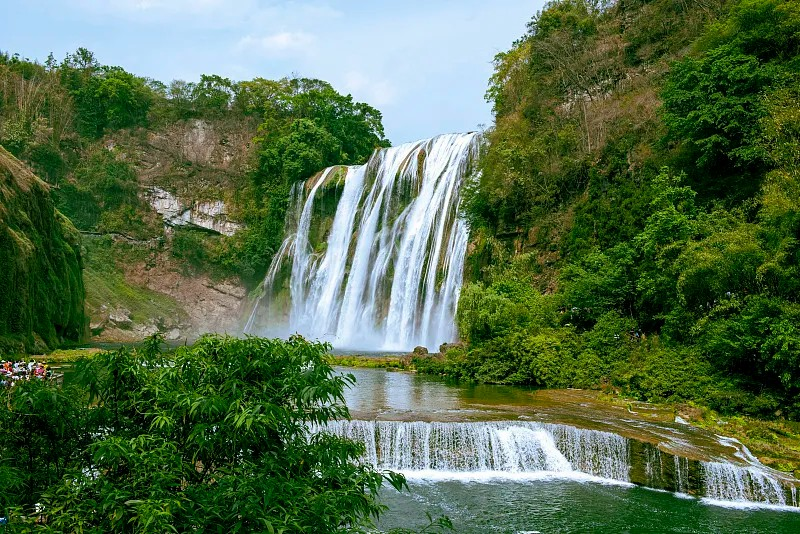Huangguoshu: (254, 131, 481, 350)
